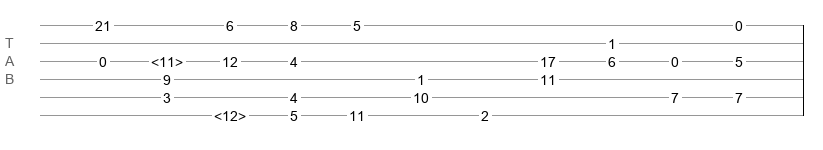0: (99, 54, 107, 64), (671, 54, 679, 64), (735, 18, 743, 28)
1: (417, 72, 425, 82), (608, 36, 616, 46)
10: (413, 90, 429, 100)
11: (349, 108, 365, 118), (540, 72, 556, 82)
12: (222, 54, 238, 64)
17: (540, 54, 556, 64)
2: (481, 108, 489, 118)
21: (95, 18, 111, 28)
3: (163, 90, 171, 100)
4: (290, 90, 298, 100), (290, 54, 298, 64)
5: (290, 108, 298, 118), (353, 18, 361, 28), (735, 54, 743, 64)
6: (226, 18, 234, 28), (608, 54, 616, 64)
7: (671, 90, 679, 100), (735, 90, 743, 100)
8: (290, 18, 298, 28)
9: (163, 72, 171, 82)
harmonic: (151, 54, 183, 64), (214, 108, 246, 118)
